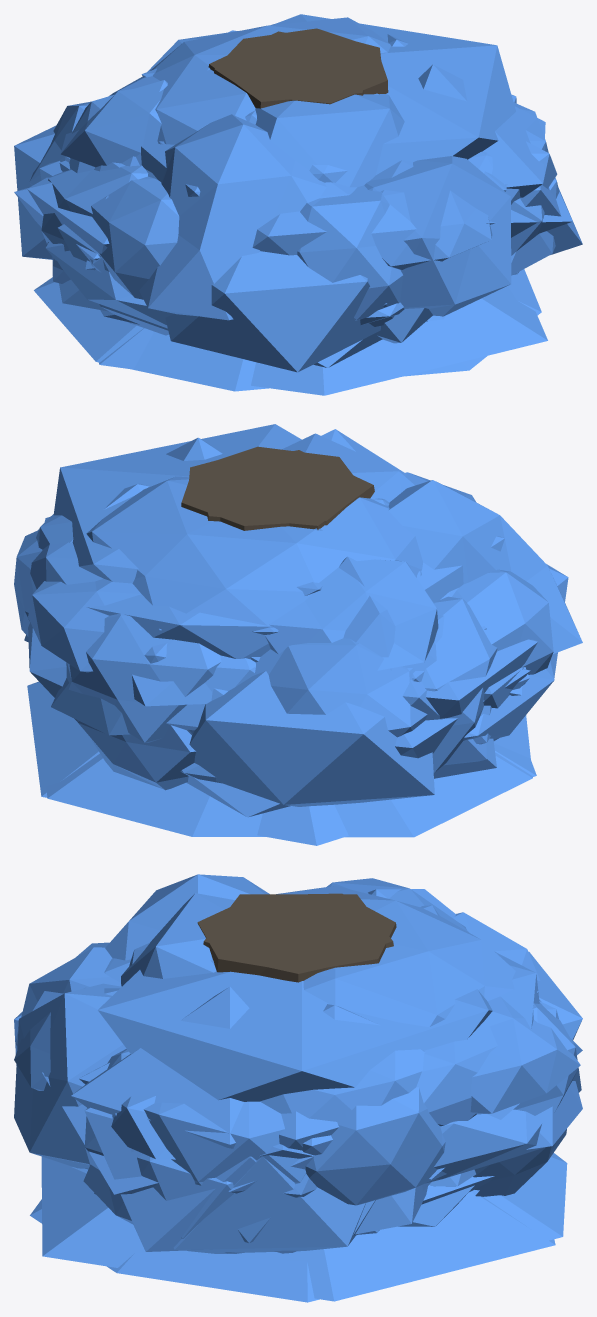
Rendered from SceneryTrees.fbx.
3 renders of one model, top to bottom at view 1: azimuth 30°, elevation 25°; view 2: azimuth 150°, elevation 25°; view 3: azimuth 270°, elevation 25°, orthographic. The views are drawn at different scales.
Parts seen in each view (by area): view 1: Shrub_Crown__leaf, Round_CrownFar__leaf, Round_Crown__leaf, Poplar_CrownFar__leaf, Oak_Crown__leaf, Pine_CrownFar__leaf, Poplar_Crown__leaf, Bush_Crown__leaf, Pine_Crown__leaf, Oak_Trunk__bark, Shrub_CrownFar__leaf, Round_TrunkFar__bark (+10 smaller); view 2: Poplar_Crown__leaf, Round_Crown__leaf, Round_CrownFar__leaf, Oak_Crown__leaf, Shrub_Crown__leaf, Pine_Crown__leaf, Poplar_CrownFar__leaf, Maple_Crown__leaf, Pine_CrownFar__leaf, Round_TrunkFar__bark, Maple_Trunk__bark, Young_Trunk__bark (+10 smaller); view 3: Poplar_CrownFar__leaf, Poplar_Crown__leaf, Pine_CrownFar__leaf, Shrub_Crown__leaf, Oak_Crown__leaf, Round_Crown__leaf, Pine_Crown__leaf, Maple_CrownFar__leaf, Bush_Crown__leaf, Shrub_CrownFar__leaf, Young_Crown__leaf, Young_CrownFar__leaf (+13 smaller).
Part boxes in pixels (x1=…): Shrub_Crown__leaf: x1=69, y1=80, x2=511, y2=321; Round_CrownFar__leaf: x1=14, y1=125, x2=380, y2=372; Round_Crown__leaf: x1=29, y1=30, x2=544, y2=320; Poplar_CrownFar__leaf: x1=85, y1=14, x2=572, y2=367; Oak_Crown__leaf: x1=60, y1=24, x2=557, y2=269; Pine_CrownFar__leaf: x1=98, y1=286, x2=547, y2=395; Poplar_Crown__leaf: x1=46, y1=17, x2=404, y2=328; Bush_Crown__leaf: x1=53, y1=94, x2=559, y2=275; Pine_Crown__leaf: x1=34, y1=269, x2=541, y2=391; Oak_Trunk__bark: x1=214, y1=28, x2=388, y2=104; Shrub_CrownFar__leaf: x1=27, y1=64, x2=545, y2=253; Round_TrunkFar__bark: x1=222, y1=36, x2=362, y2=95; Poplar_Crown__leaf: x1=28, y1=476, x2=554, y2=783; Round_Crown__leaf: x1=14, y1=472, x2=553, y2=742; Round_CrownFar__leaf: x1=189, y1=536, x2=568, y2=806; Oak_Crown__leaf: x1=28, y1=483, x2=486, y2=706; Shrub_Crown__leaf: x1=51, y1=429, x2=582, y2=735; Pine_Crown__leaf: x1=46, y1=715, x2=532, y2=837; Poplar_CrownFar__leaf: x1=53, y1=424, x2=522, y2=817; Maple_Crown__leaf: x1=77, y1=528, x2=497, y2=790; Pine_CrownFar__leaf: x1=27, y1=681, x2=536, y2=845; Round_TrunkFar__bark: x1=210, y1=455, x2=359, y2=520; Maple_Trunk__bark: x1=192, y1=452, x2=333, y2=520; Young_Trunk__bark: x1=187, y1=450, x2=336, y2=522; Poplar_CrownFar__leaf: x1=42, y1=905, x2=519, y2=1226; Poplar_Crown__leaf: x1=228, y1=886, x2=544, y2=1204; Pine_CrownFar__leaf: x1=41, y1=1156, x2=555, y2=1301; Shrub_Crown__leaf: x1=14, y1=874, x2=582, y2=1253; Oak_Crown__leaf: x1=14, y1=878, x2=582, y2=1159; Round_Crown__leaf: x1=15, y1=912, x2=581, y2=1205; Pine_Crown__leaf: x1=30, y1=1153, x2=567, y2=1302; Maple_CrownFar__leaf: x1=115, y1=1113, x2=365, y2=1252; Bush_Crown__leaf: x1=83, y1=893, x2=475, y2=1253; Shrub_CrownFar__leaf: x1=71, y1=987, x2=249, y2=1148; Young_Crown__leaf: x1=89, y1=959, x2=306, y2=1243; Young_CrownFar__leaf: x1=85, y1=1107, x2=375, y2=1251.
Size of the model in its own units: 2 by 1 by 2.
